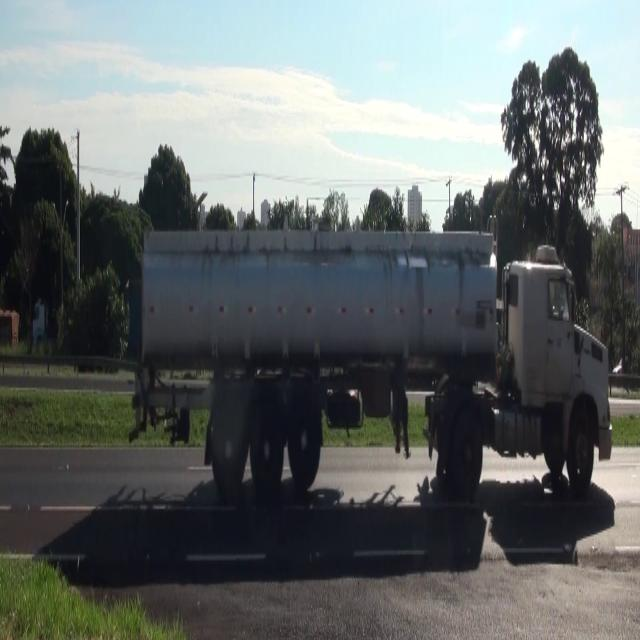-axle: (288, 396, 324, 487), (250, 404, 284, 500), (210, 406, 247, 493), (451, 406, 484, 488), (566, 415, 598, 488)
